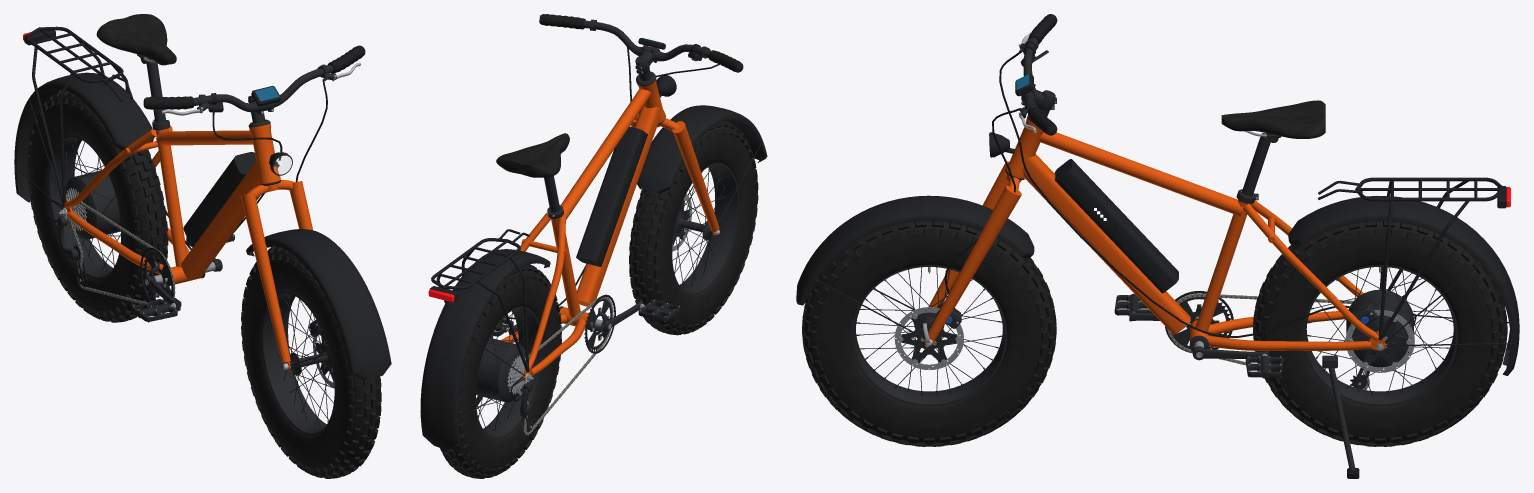
The model's file is fat-tyre-e-bike.glb.
3 renders of one model, left to right at view 1: azimuth 30°, elevation 25°; view 2: azimuth 150°, elevation 25°; view 3: azimuth 270°, elevation 25°, orthographic. The views are drawn at different scales.
Visible parts, largest first — view 1: Fat_Tyre_E_Bike, Rear_Wheel, Front_Wheel, Fork, Crank, Pedal_R; view 2: Fat_Tyre_E_Bike, Front_Wheel, Rear_Wheel, Fork, Crank, Pedal_R; view 3: Fat_Tyre_E_Bike, Front_Wheel, Rear_Wheel, Fork, Crank, Pedal_L.
Boxes of the visible parts, x1,y1,x2,y2 form: Fat_Tyre_E_Bike: [14, 14, 282, 306]; Rear_Wheel: [27, 89, 168, 322]; Front_Wheel: [241, 245, 381, 478]; Fork: [143, 45, 391, 379]; Crank: [140, 237, 222, 310]; Pedal_R: [132, 298, 177, 322]; Fat_Tyre_E_Bike: [420, 64, 719, 449]; Front_Wheel: [629, 120, 758, 335]; Rear_Wheel: [440, 264, 561, 478]; Fork: [539, 14, 767, 235]; Crank: [509, 294, 643, 353]; Pedal_R: [638, 300, 680, 321]; Fat_Tyre_E_Bike: [999, 52, 1519, 478]; Front_Wheel: [802, 221, 1056, 446]; Rear_Wheel: [1253, 221, 1507, 446]; Fork: [796, 14, 1057, 345]; Crank: [1129, 291, 1268, 360]; Pedal_L: [1245, 353, 1283, 378].
Bounding box in the file's own units: 0.697 × 1.08 × 1.88.
Materials: 28 (4 with a texture image).
